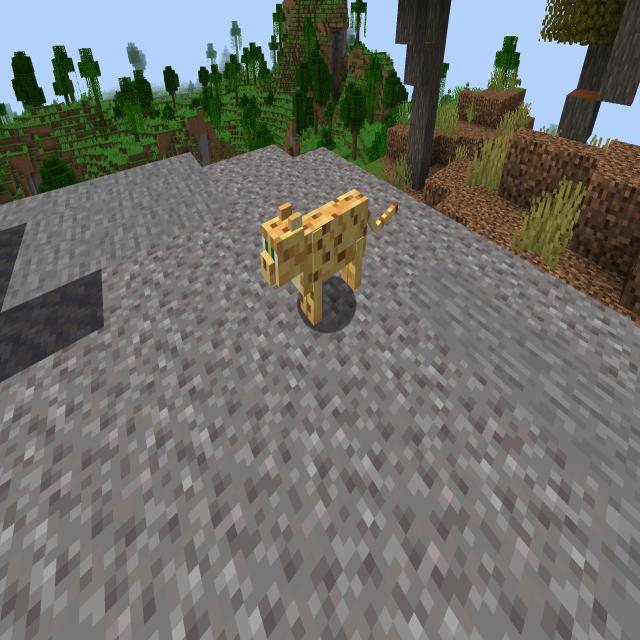Ocelot: (252, 173, 402, 335)
